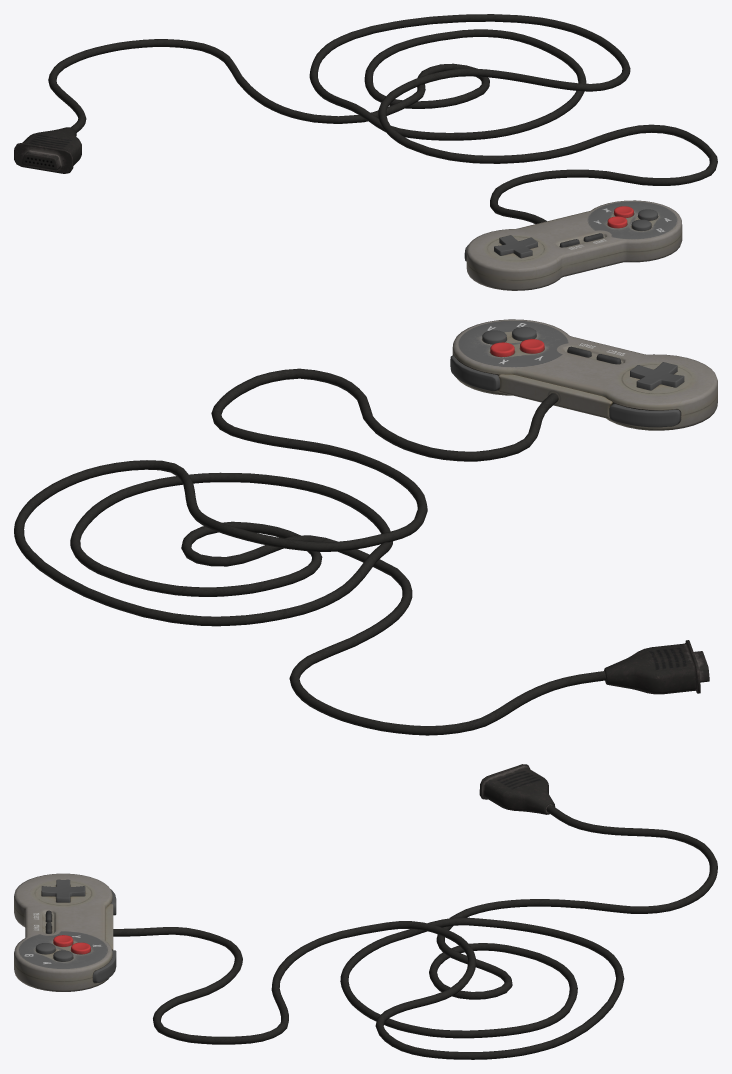
Rendered from gamepad_1k.gltf.
3 renders of one model, top to bottom at view 1: azimuth 30°, elevation 25°; view 2: azimuth 150°, elevation 25°; view 3: azimuth 270°, elevation 25°, orthographic. The views are drawn at different scales.
Parts seen in each view (by area): view 1: gamepad; view 2: gamepad; view 3: gamepad.
Part boxes in pixels (<box>): gamepad: <box>14,14,717,290</box>; gamepad: <box>14,319,717,735</box>; gamepad: <box>14,764,717,1059</box>.
Size of the model in its own units: 0.4041 by 0.0189 by 0.435.
Materials: 1 (1 with a texture image).
